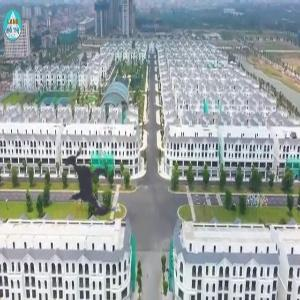drone: (28, 122, 150, 244)
